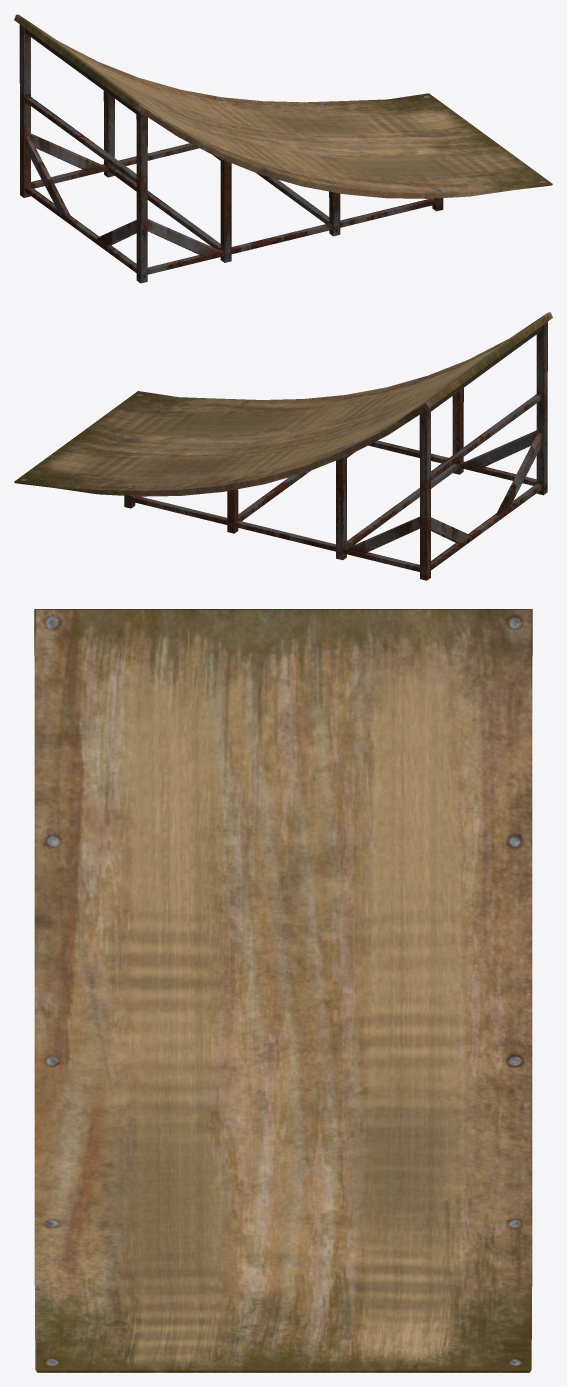
File: ramp (1).fbx
3 renders of one model, top to bottom at view 1: azimuth 30°, elevation 25°; view 2: azimuth 150°, elevation 25°; view 3: azimuth 270°, elevation 25°, orthographic. The views are drawn at different scales.
Visible parts, largest first — view 1: ramp; view 2: ramp; view 3: ramp.
Part boxes in pixels (x1,y1,x2,y2): ramp: (14, 14, 552, 283); ramp: (14, 312, 552, 580); ramp: (34, 609, 532, 1372).
Bounding box in the file's own units: 1.99 × 0.8296 × 1.03.
1 material, 1 textured.
